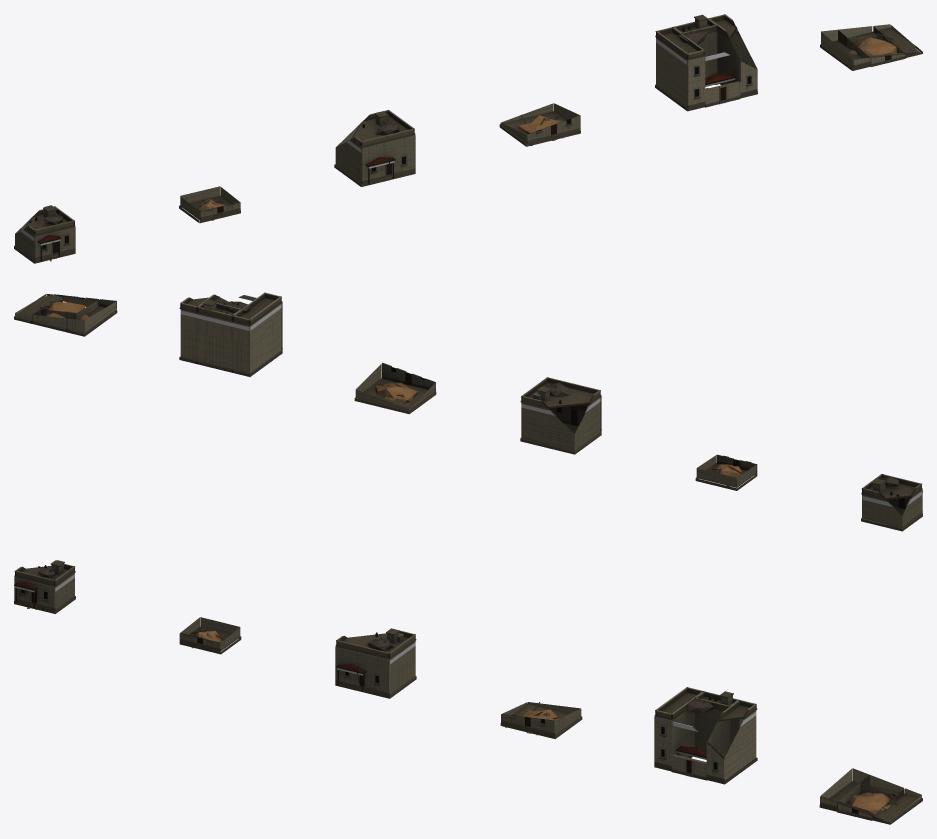
The model's file is gunpowder-steppe-houses-damage.glb.
3 views of the same model, one above another, from view 1: azimuth 30°, elevation 25°; view 2: azimuth 150°, elevation 25°; view 3: azimuth 330°, elevation 25° (orthographic).
Visible parts, largest first — view 1: LOD0.004, LOD0.002, LOD0.005, LOD0, LOD0.003, LOD0.001; view 2: LOD0.004, LOD0.002, LOD0.005, LOD0, LOD0.003, LOD0.001; view 3: LOD0.004, LOD0.002, LOD0.005, LOD0, LOD0.003, LOD0.001.
Boxes of the visible parts, box(x1,y1,x2,y2) form: LOD0.004: box(655, 14, 757, 111); LOD0.002: box(334, 110, 415, 186); LOD0.005: box(820, 24, 922, 70); LOD0: box(14, 205, 75, 263); LOD0.003: box(499, 103, 580, 146); LOD0.001: box(179, 186, 240, 223); LOD0.004: box(179, 292, 282, 376); LOD0.002: box(520, 377, 601, 454); LOD0.005: box(14, 294, 117, 336); LOD0: box(861, 474, 922, 531); LOD0.003: box(354, 362, 436, 414); LOD0.001: box(695, 454, 757, 490); LOD0.004: box(654, 687, 757, 784); LOD0.002: box(335, 628, 416, 698); LOD0.005: box(819, 768, 922, 824); LOD0: box(14, 560, 75, 613); LOD0.003: box(500, 702, 582, 739); LOD0.001: box(179, 617, 241, 654).
Size of what is drawn, in the model's own units: 16.02 by 1.08 by 1.05.
2 materials, 2 textured.
